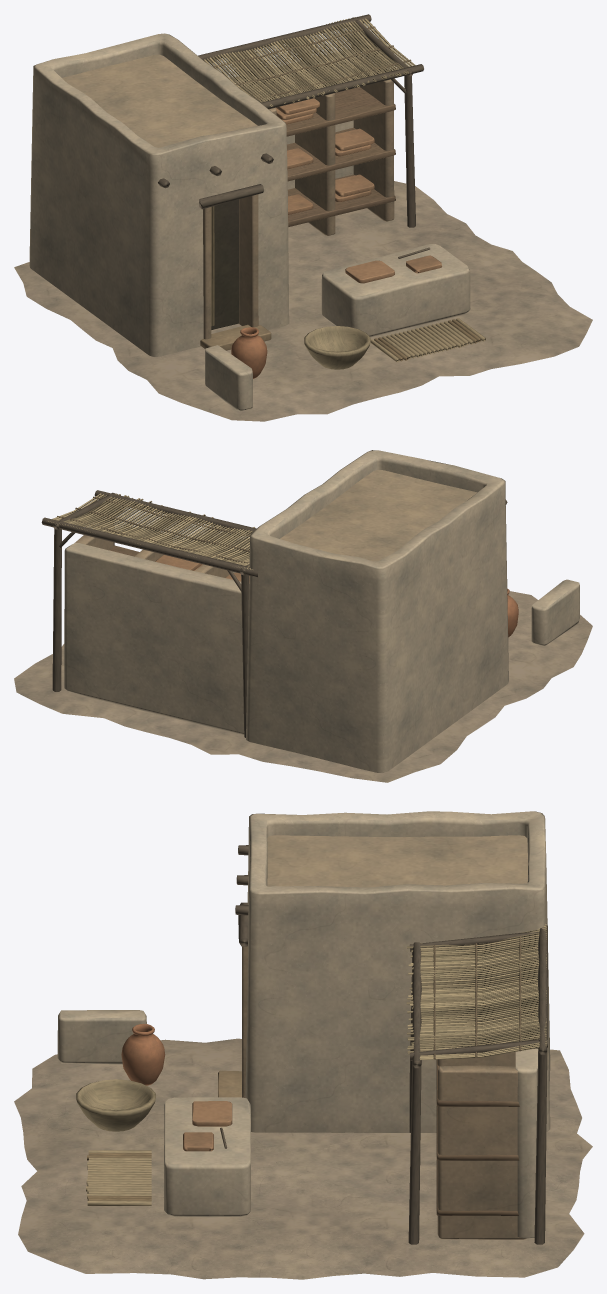
Rendered from scribal-house.glb.
The picture shows the model from 3 angles, top to bottom: view 1: azimuth 30°, elevation 25°; view 2: azimuth 150°, elevation 25°; view 3: azimuth 270°, elevation 25°; orthographic projection. The views are drawn at different scales.
Visible parts, largest first — view 1: scribal-house; view 2: scribal-house; view 3: scribal-house.
Part boxes in pixels (x1,y1,x2,y2): scribal-house: (14,14,592,421); scribal-house: (14,450,592,782); scribal-house: (14,811,592,1279).
Bounding box in the file's own units: 4.97 × 2.4 × 5.06.
5 materials, 5 textured.
